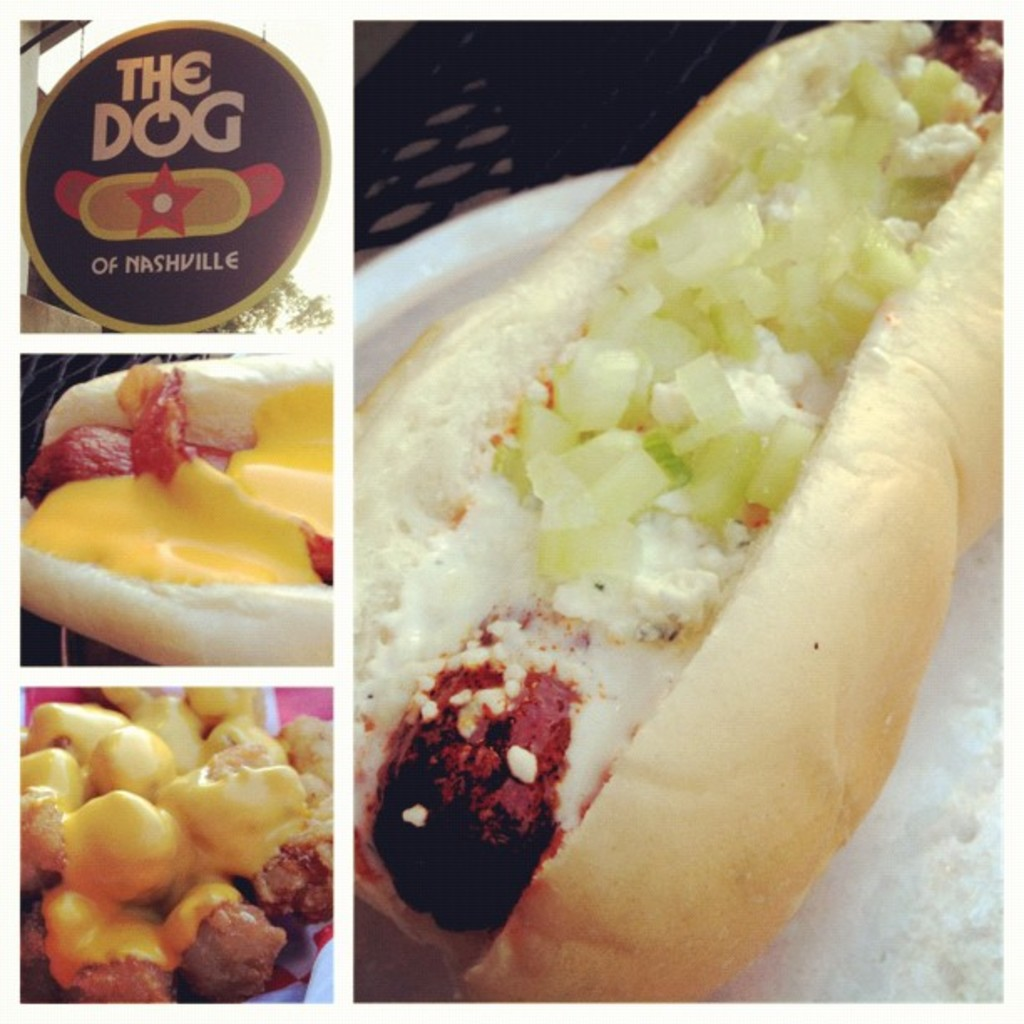hot_dog: (336, 0, 1014, 1002), (20, 351, 331, 664)
